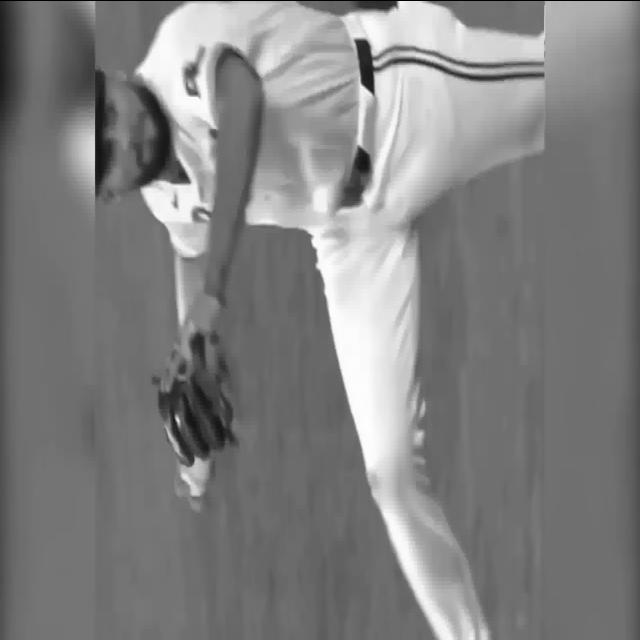baseball: (175, 454, 212, 498)
baseball_glove: (156, 328, 238, 466)
